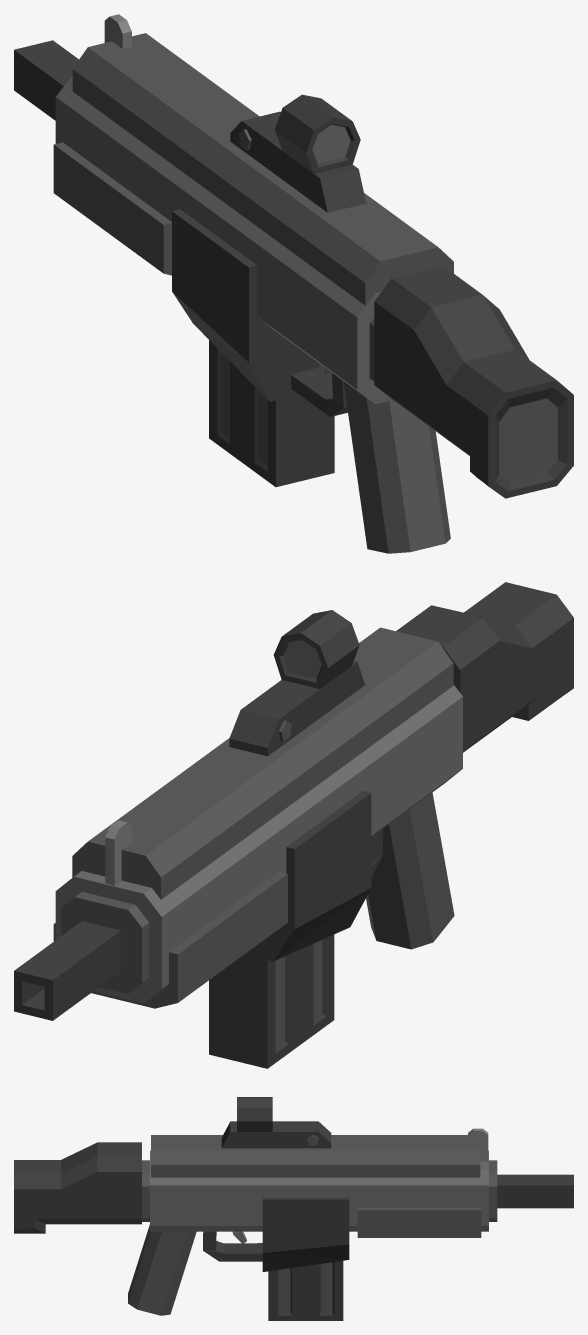
File: subfusil_8.glb
The picture shows the model from 3 angles, top to bottom: view 1: azimuth 30°, elevation 25°; view 2: azimuth 150°, elevation 25°; view 3: azimuth 270°, elevation 25°; orthographic projection. The views are drawn at different scales.
Visible parts, largest first — view 1: subfusil_8, subfusil_charguer_8, subfusil_scope_8; view 2: subfusil_8, subfusil_charguer_8, subfusil_scope_8; view 3: subfusil_8, subfusil_charguer_8, subfusil_scope_8.
Part boxes in pixels (<box>): subfusil_8: <box>14,14,573,553</box>; subfusil_charguer_8: <box>209,340,334,487</box>; subfusil_scope_8: <box>230,94,366,212</box>; subfusil_8: <box>14,582,573,1020</box>; subfusil_charguer_8: <box>209,934,334,1068</box>; subfusil_scope_8: <box>229,610,364,756</box>; subfusil_8: <box>14,1128,573,1315</box>; subfusil_charguer_8: <box>268,1260,343,1320</box>; subfusil_scope_8: <box>221,1097,331,1148</box>.
Bounding box in the file's own units: 0.3404 × 1 × 2.36.
Materials: 1 (1 with a texture image).
